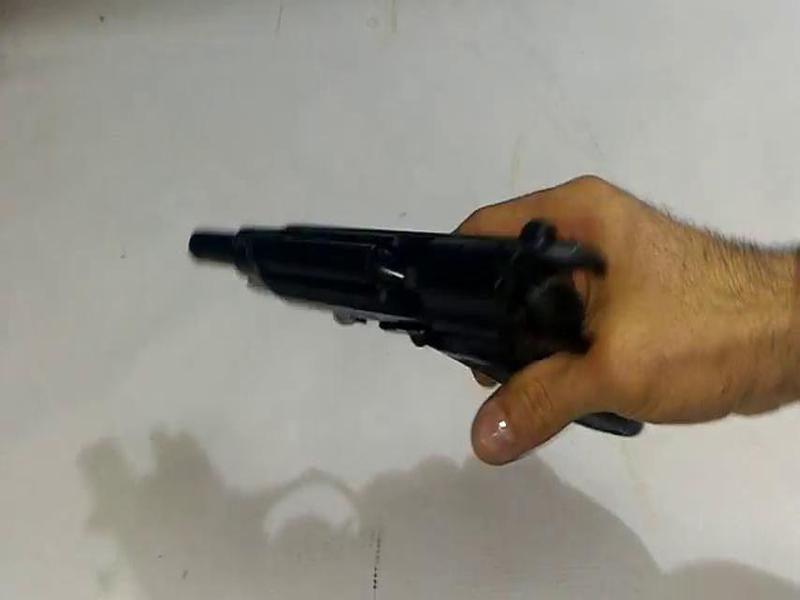Pistola: (171, 181, 647, 464)
